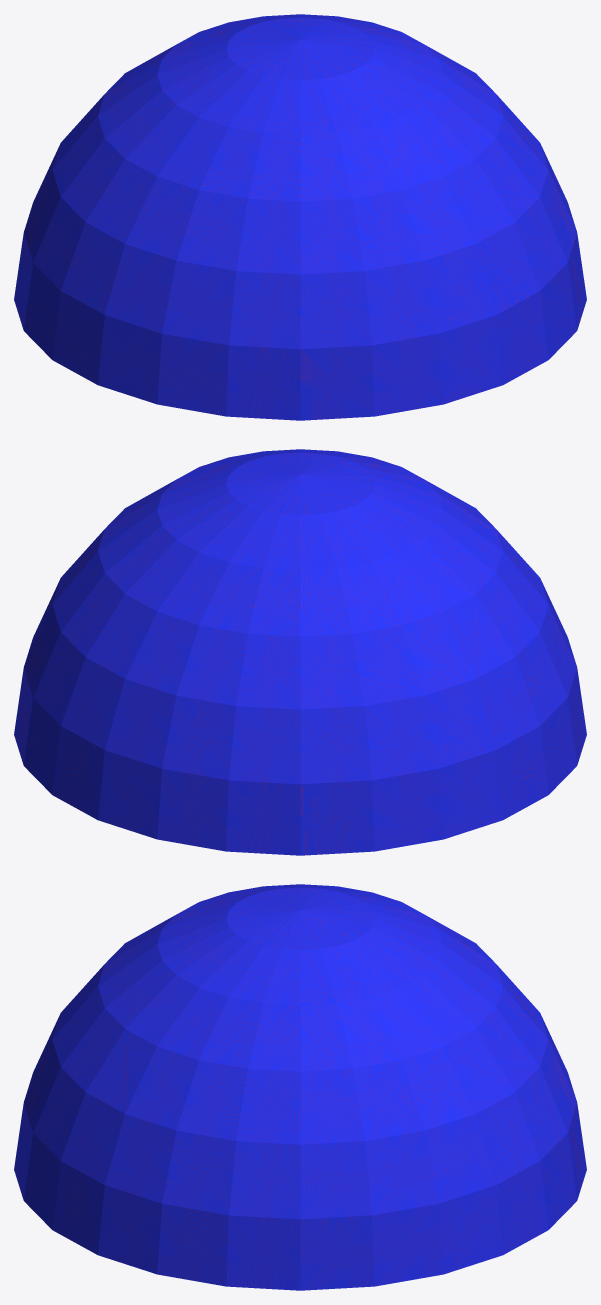
Rendered from blue_100_opacity_dome.dae.
3 views of the same model, one above another, from view 1: azimuth 30°, elevation 25°; view 2: azimuth 150°, elevation 25°; view 3: azimuth 270°, elevation 25° (orthographic).
Visible parts, largest first — view 1: Component1; view 2: Component1; view 3: Component1.
Part boxes in pixels (<box>): Component1: <box>14,14,586,420</box>; Component1: <box>14,449,586,855</box>; Component1: <box>14,884,586,1290</box>.
Size of the model in its own units: 245371 by 245371 by 132150.
